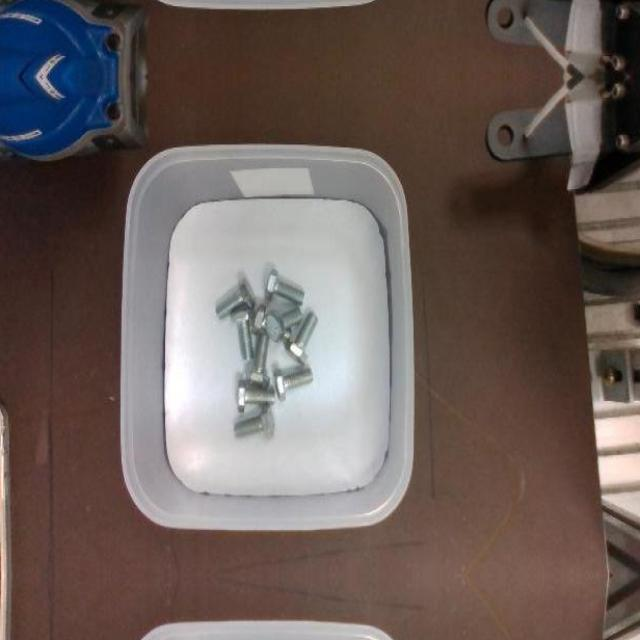screw: (285, 311, 319, 363), (216, 278, 257, 320), (266, 268, 305, 306), (235, 402, 275, 438), (274, 366, 314, 402), (246, 331, 271, 387), (230, 309, 256, 361), (267, 306, 304, 342), (237, 380, 275, 412)
